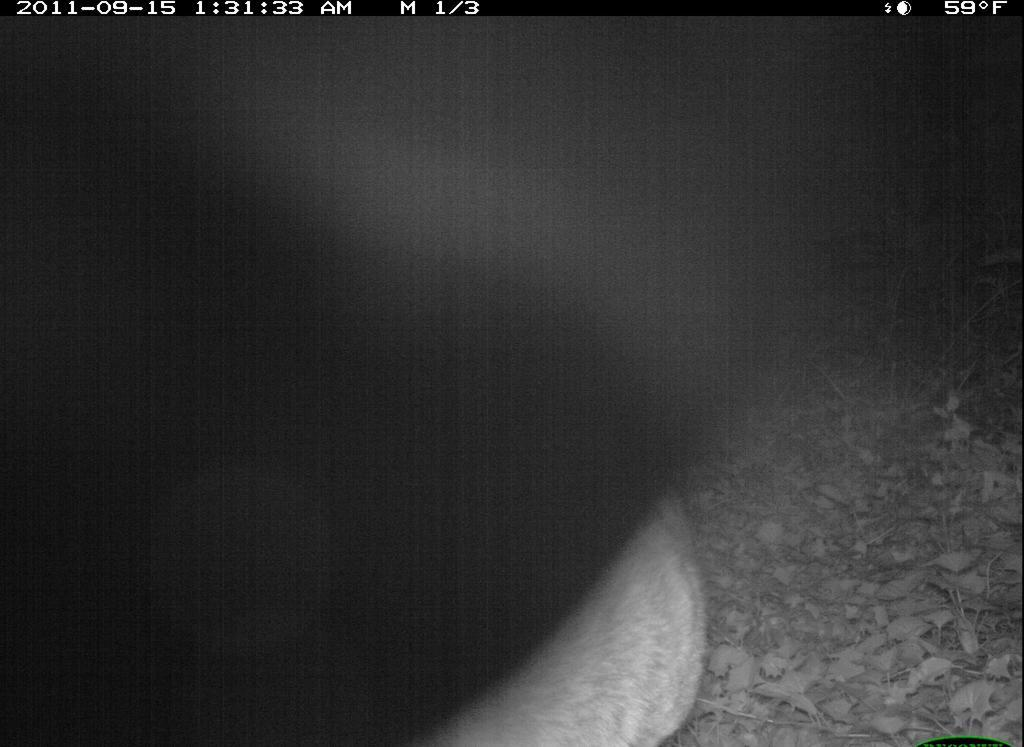coyote: (382, 486, 713, 747)
